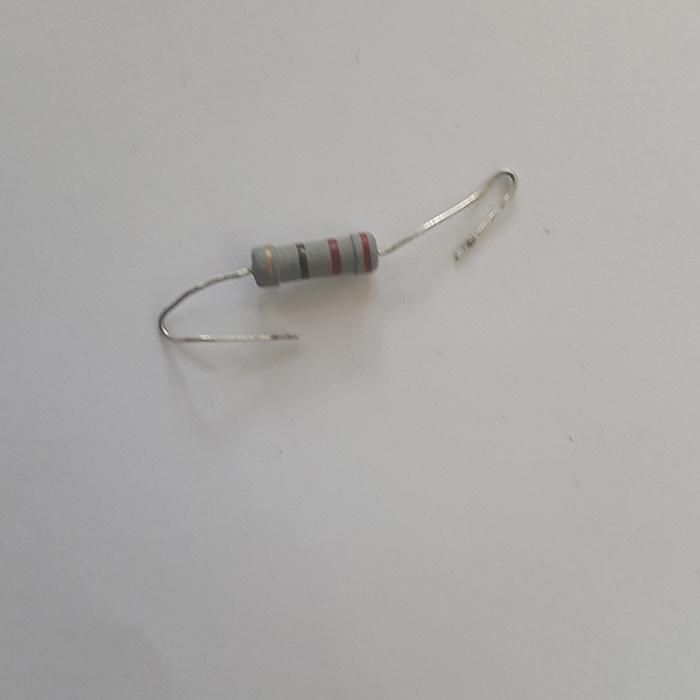resistor: (249, 230, 380, 288)
